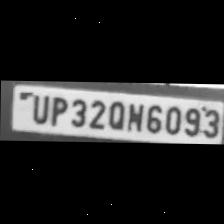0: (162, 104, 180, 134)
2: (86, 97, 106, 128)
3: (66, 96, 86, 128), (200, 104, 218, 138)
6: (142, 101, 162, 132)
9: (182, 105, 200, 136)
H: (124, 100, 144, 131)
P: (47, 94, 67, 124)
Q: (105, 98, 125, 130)
U: (28, 92, 48, 123)
